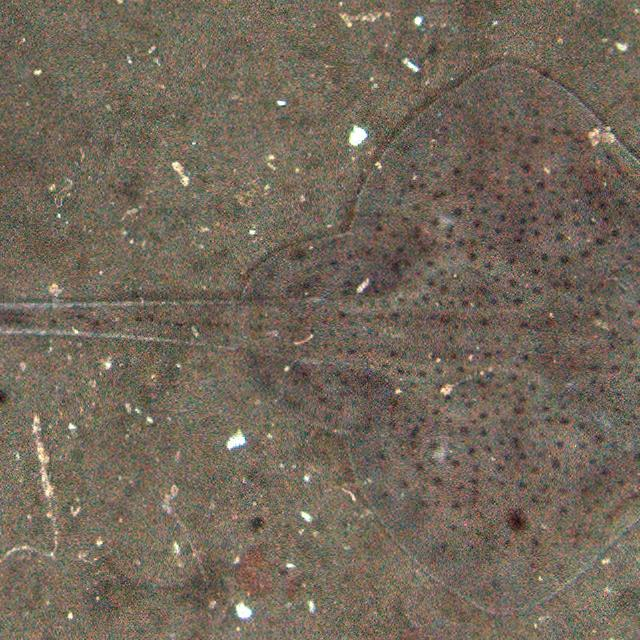skate: (2, 63, 640, 614)
